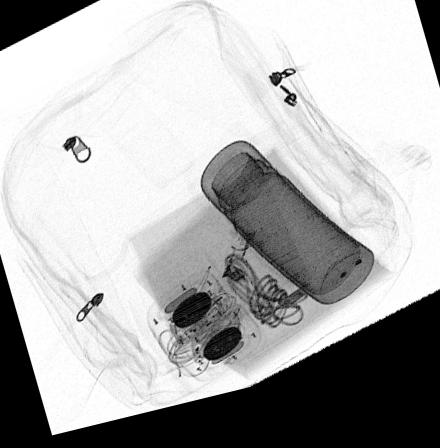Lighter: (221, 241, 256, 304)
